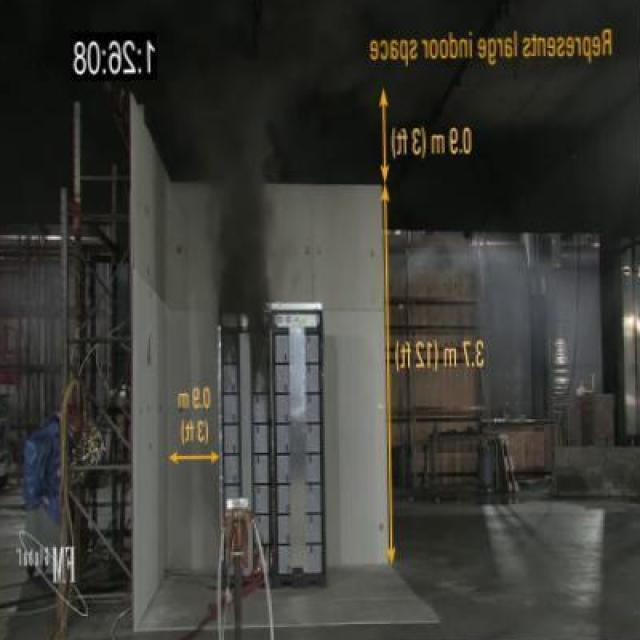fire: (180, 46, 278, 296)
